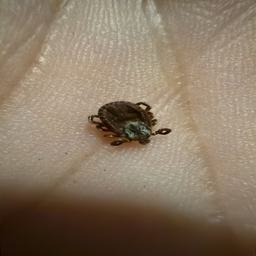Dermacentor variabilis: (88, 99, 171, 147)
